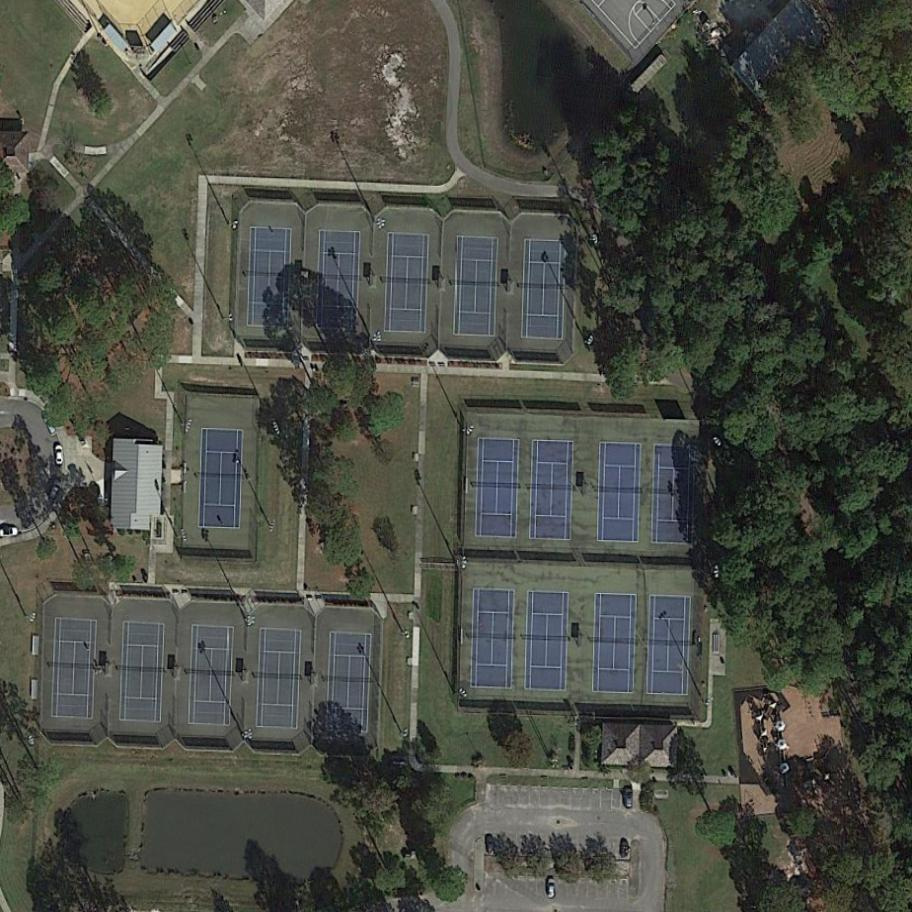small-vehicle: (43, 415, 59, 438), (620, 837, 631, 859), (624, 785, 634, 806), (548, 878, 557, 899), (55, 443, 63, 465), (49, 485, 60, 501)
